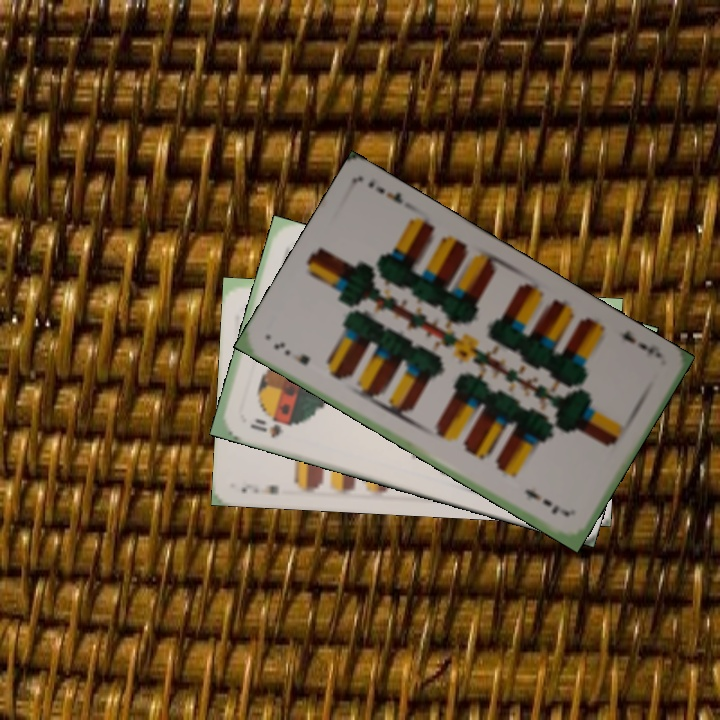E7: (617, 326, 665, 361), (269, 337, 312, 368), (236, 480, 282, 497)
SO: (246, 414, 294, 441)
